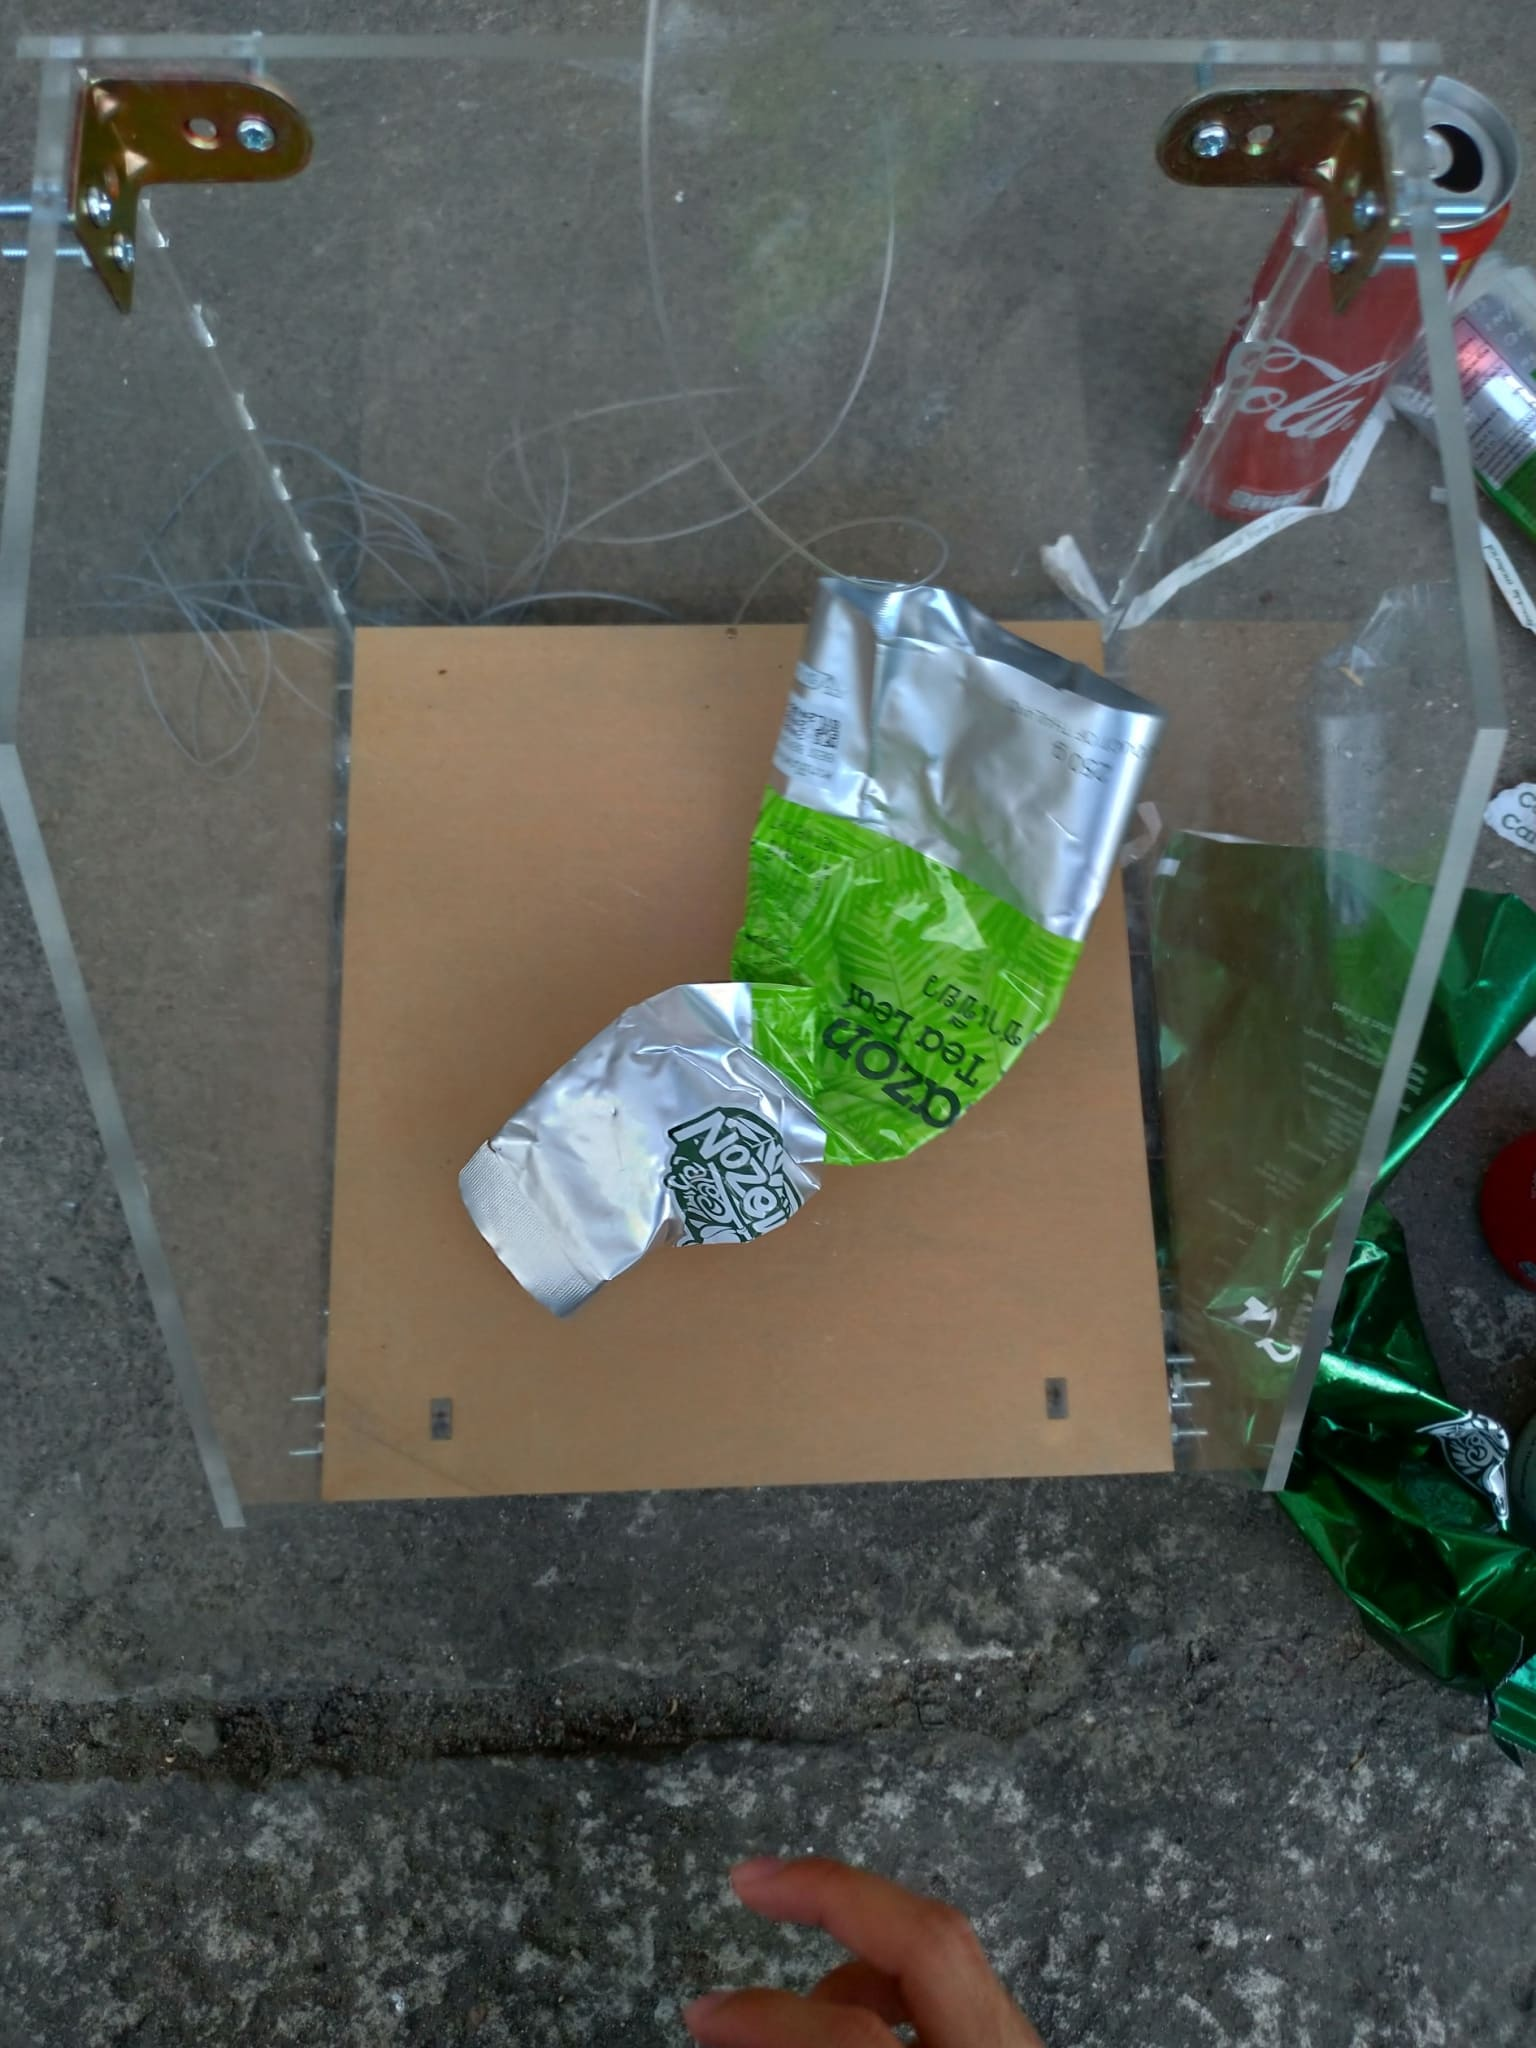AlCan: (1183, 73, 1517, 508)
Others: (453, 584, 1157, 1334), (1147, 819, 1533, 1771)
